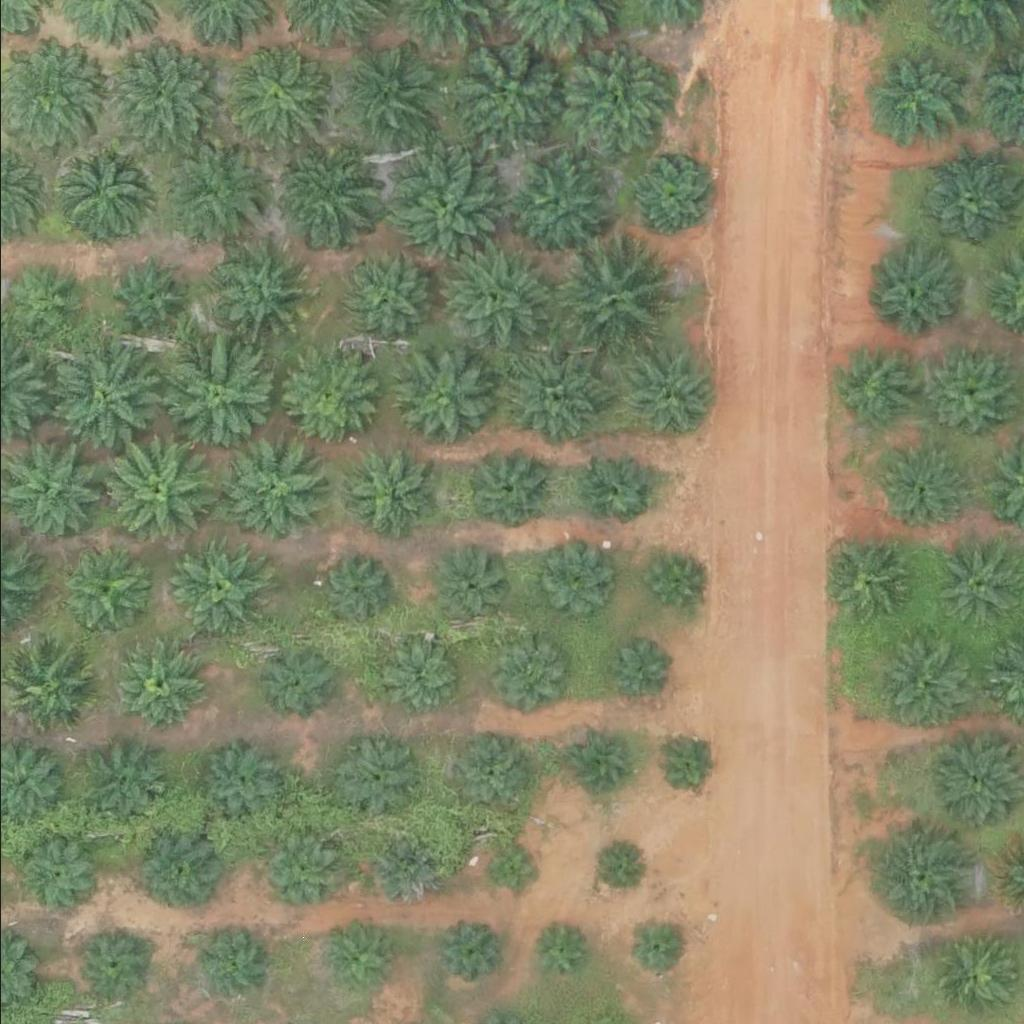Kelapa_Sawit: (553, 39, 679, 164), (442, 27, 568, 152), (95, 32, 221, 157), (378, 147, 504, 272), (552, 238, 678, 363), (429, 234, 555, 359), (153, 336, 279, 461), (40, 336, 166, 461), (93, 428, 219, 553), (864, 48, 965, 148), (878, 632, 979, 732), (872, 831, 973, 931), (331, 47, 432, 147), (230, 48, 331, 148), (275, 155, 376, 255), (170, 143, 271, 243), (207, 246, 308, 346), (53, 139, 154, 239), (916, 154, 1016, 254), (865, 246, 965, 346), (919, 348, 1019, 448), (507, 153, 607, 253), (615, 343, 715, 443), (499, 347, 599, 447), (392, 347, 492, 447), (275, 349, 375, 449), (219, 440, 319, 540), (168, 534, 268, 634), (333, 734, 421, 822), (133, 829, 221, 917), (875, 447, 963, 535), (935, 543, 1023, 631), (825, 540, 913, 628), (341, 449, 429, 537), (193, 738, 281, 826), (56, 547, 144, 635), (462, 444, 550, 531), (828, 348, 916, 435), (337, 255, 425, 342), (112, 643, 200, 730), (74, 738, 162, 825), (383, 638, 459, 713), (435, 548, 511, 623), (316, 553, 392, 628), (260, 642, 336, 717), (634, 160, 710, 235), (574, 448, 650, 523), (533, 546, 608, 621), (491, 639, 566, 714), (447, 737, 522, 812), (4, 264, 79, 339), (71, 931, 146, 1006), (187, 919, 262, 994), (261, 829, 336, 904), (107, 257, 182, 332), (362, 836, 437, 911), (13, 837, 88, 912), (655, 731, 718, 794), (566, 732, 629, 795), (326, 929, 389, 992), (639, 551, 702, 613), (606, 641, 669, 703), (624, 916, 687, 978), (524, 920, 587, 982), (437, 920, 500, 982), (592, 846, 643, 896), (486, 845, 537, 895)
